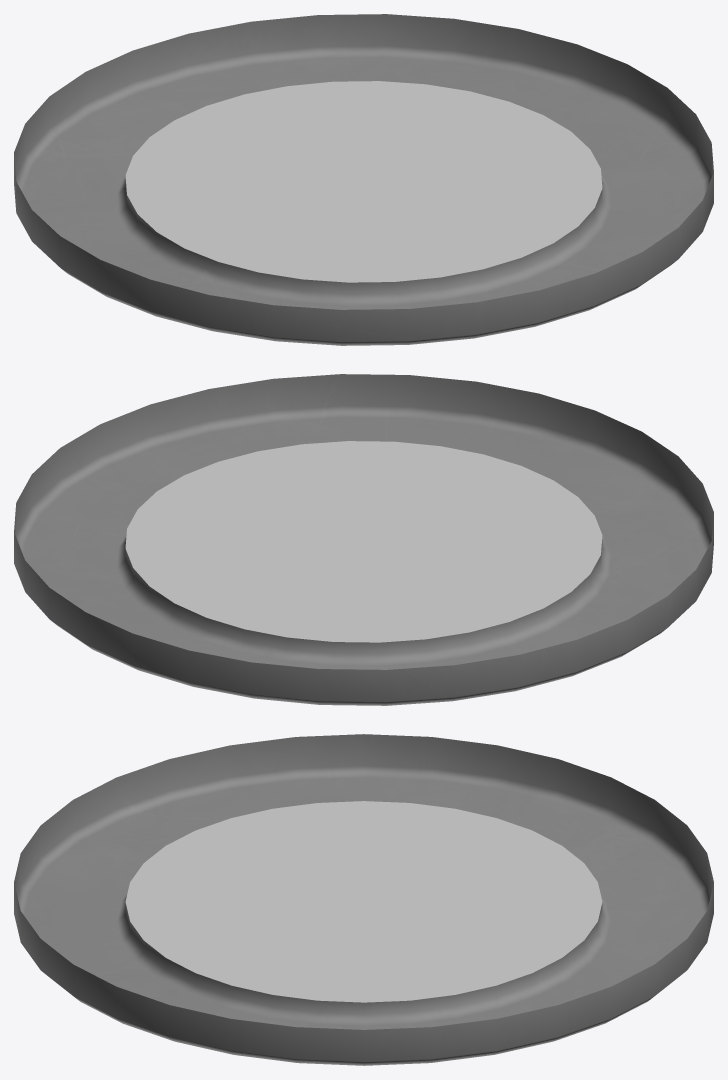
File: SM_CeilingLight_Sunk_01.fbx
3 views of the same model, one above another, from view 1: azimuth 30°, elevation 25°; view 2: azimuth 150°, elevation 25°; view 3: azimuth 270°, elevation 25° (orthographic).
Parts seen in each view (by area): view 1: SM_CeilingLight_Sunk_01_LOD0; view 2: SM_CeilingLight_Sunk_01_LOD0; view 3: SM_CeilingLight_Sunk_01_LOD0.
Part boxes in pixels (x1,y1,x2,y2): SM_CeilingLight_Sunk_01_LOD0: (14,14,713,345); SM_CeilingLight_Sunk_01_LOD0: (14,374,713,705); SM_CeilingLight_Sunk_01_LOD0: (14,734,713,1065).
Bounding box in the file's own units: 8.01 × 8.01 × 0.5.
